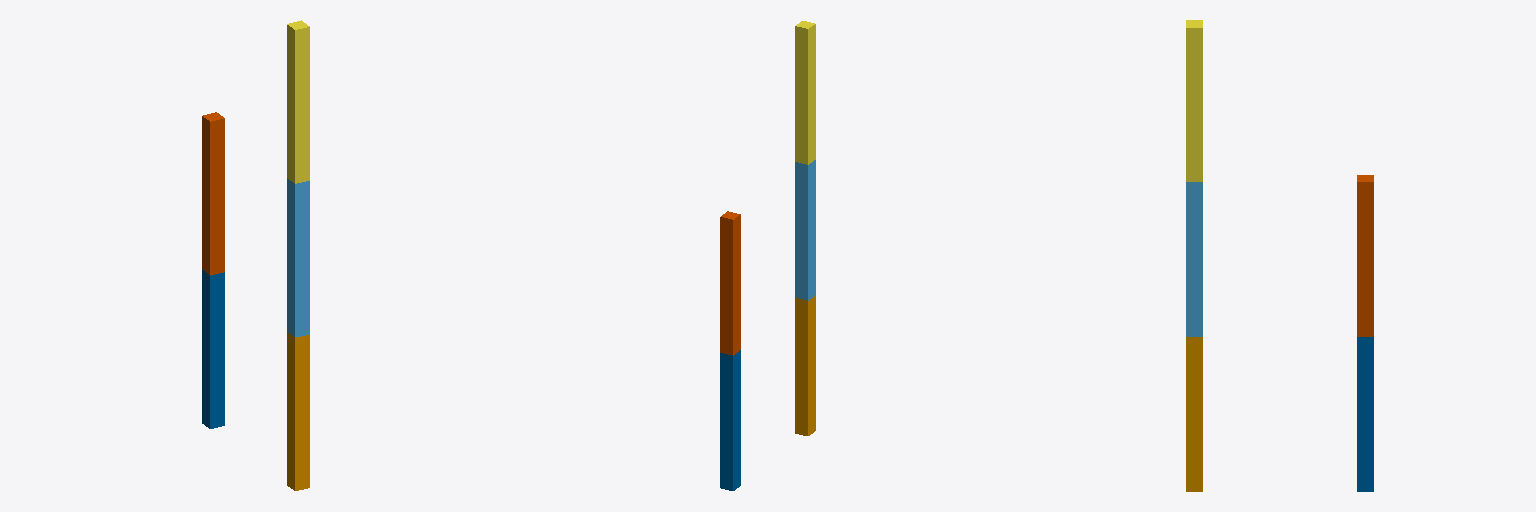
The robot description file, URDF, robot "simple":
<?xml version="1.0" encoding="utf-8"?>
<!-- =================================================================================== -->
<!-- |    This document was autogenerated by xacro from simple_robot-v3.urdf.xacro     | -->
<!-- |    EDITING THIS FILE BY HAND IS NOT RECOMMENDED                                 | -->
<!-- =================================================================================== -->
<robot name="simple">
  <!-- instead of repeating same code for different links, we can reuse the code like above -->
  <link name="r1_world">
    <visual>
      <origin rpy="0 0 0" xyz="0 0 0.5"/>
      <geometry>
        <box size="0.1 0.1 1"/>
      </geometry>
    </visual>
  </link>
  <link name="r1_tool">
    <visual>
      <origin rpy="0 0 0" xyz="0 0 0.5"/>
      <geometry>
        <box size="0.1 0.1 1"/>
      </geometry>
    </visual>
  </link>
  <joint name="r1_q1" type="revolute">
    <origin rpy=" 0 0 0" xyz="0 0 1"/>
    <parent link="r1_world"/>
    <child link="r1_tool"/>
    <axis xyz="0 1 0"/>
    <limit effort="1" lower="-1" upper="1" velocity="1"/>
  </joint>
  <link name="r2_world">
    <visual>
      <origin rpy="0 0 0" xyz="0 0 0.5"/>
      <geometry>
        <box size="0.1 0.1 1"/>
      </geometry>
    </visual>
  </link>
  <link name="r2_tool">
    <visual>
      <origin rpy="0 0 0" xyz="0 0 0.5"/>
      <geometry>
        <box size="0.1 0.1 1"/>
      </geometry>
    </visual>
  </link>
  <joint name="r2_q1" type="revolute">
    <origin rpy=" 0 0 0" xyz="0 0 1"/>
    <parent link="r2_world"/>
    <child link="r2_tool"/>
    <axis xyz="0 1 0"/>
    <limit effort="1" lower="-1" upper="1" velocity="1"/>
  </joint>
  <link name="r3_world">
    <visual>
      <origin rpy="0 0 0" xyz="0 0 0.5"/>
      <geometry>
        <box size="0.1 0.1 1"/>
      </geometry>
    </visual>
  </link>
  <link name="r3_tool">
    <visual>
      <origin rpy="0 0 0" xyz="0 0 0.5"/>
      <geometry>
        <box size="0.1 0.1 1"/>
      </geometry>
    </visual>
  </link>
  <joint name="r3_q1" type="revolute">
    <origin rpy=" 0 0 0" xyz="0 0 1"/>
    <parent link="r3_world"/>
    <child link="r3_tool"/>
    <axis xyz="0 1 0"/>
    <limit effort="1" lower="-1" upper="1" velocity="1"/>
  </joint>
  <link name="world"/>
  <joint name="r1" type="fixed">
    <origin rpy="0 0 0" xyz="1 0 0"/>
    <parent link="world"/>
    <child link="r1_world"/>
  </joint>
  <joint name="r2" type="fixed">
    <origin rpy="0 0 0" xyz="0 0 0"/>
    <parent link="r1_tool"/>
    <child link="r2_world"/>
  </joint>
  <joint name="r3" type="fixed">
    <origin rpy="0 0 0" xyz="1 1 0"/>
    <parent link="world"/>
    <child link="r3_world"/>
  </joint>
</robot>

--- Facts derived from the render (not from the file) ---
Views: 3 orthographic renders of the robot side by side, from view 1: azimuth 30°, elevation 25°; view 2: azimuth 150°, elevation 25°; view 3: azimuth 270°, elevation 25°.
Robot: simple — 7 links, 6 joints (3 revolute, 3 fixed); root link world; default pose: all joints at 0.
Links seen in each view (by area): view 1: r2_tool, r3_tool, r1_tool, r3_world, r1_world; view 2: r2_tool, r3_tool, r1_world, r1_tool, r3_world; view 3: r2_tool, r3_tool, r1_world, r1_tool, r3_world.
Link boxes in pixels (x1=…): r2_tool: x1=287, y1=20, x2=309, y2=183; r3_tool: x1=202, y1=112, x2=224, y2=275; r1_tool: x1=287, y1=178, x2=309, y2=337; r3_world: x1=202, y1=270, x2=224, y2=428; r1_world: x1=287, y1=332, x2=309, y2=490; r2_tool: x1=795, y1=21, x2=815, y2=164; r3_tool: x1=720, y1=211, x2=740, y2=355; r1_world: x1=795, y1=295, x2=815, y2=435; r1_tool: x1=795, y1=160, x2=815, y2=300; r3_world: x1=720, y1=350, x2=740, y2=490; r2_tool: x1=1186, y1=20, x2=1202, y2=181; r3_tool: x1=1357, y1=175, x2=1373, y2=336; r1_world: x1=1186, y1=337, x2=1202, y2=491; r1_tool: x1=1186, y1=182, x2=1202, y2=336; r3_world: x1=1357, y1=337, x2=1373, y2=491.
Size in the robot's own frame: 0.1 by 1.1 by 3 metres.
Geometry: primitives only (box / cylinder / sphere), no mesh files.